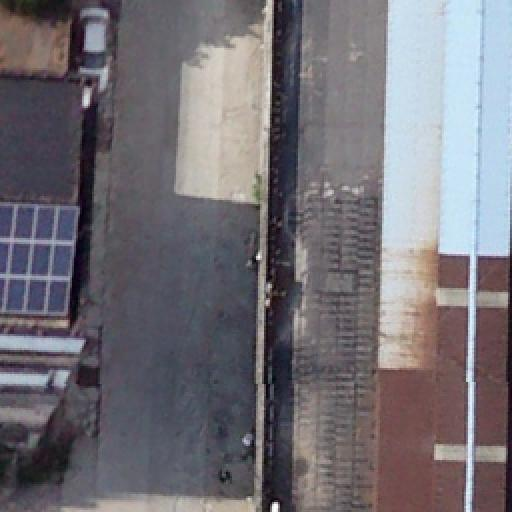solar-panel: (0, 206, 76, 314)
